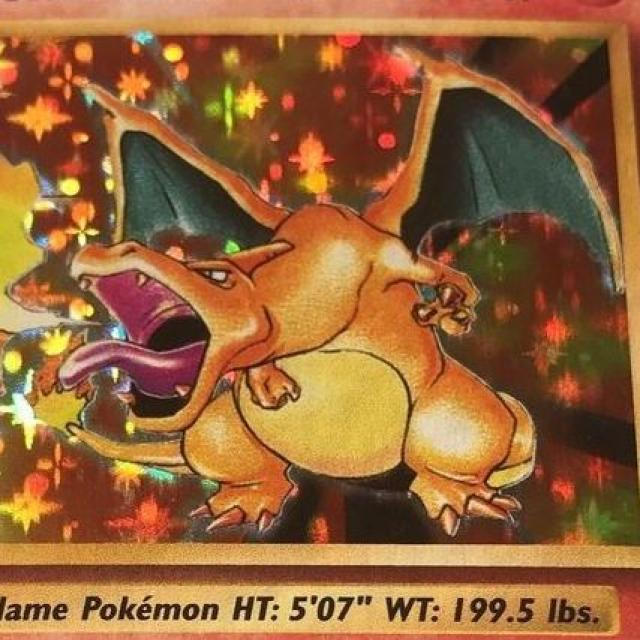Charizard: (65, 136, 542, 528)
